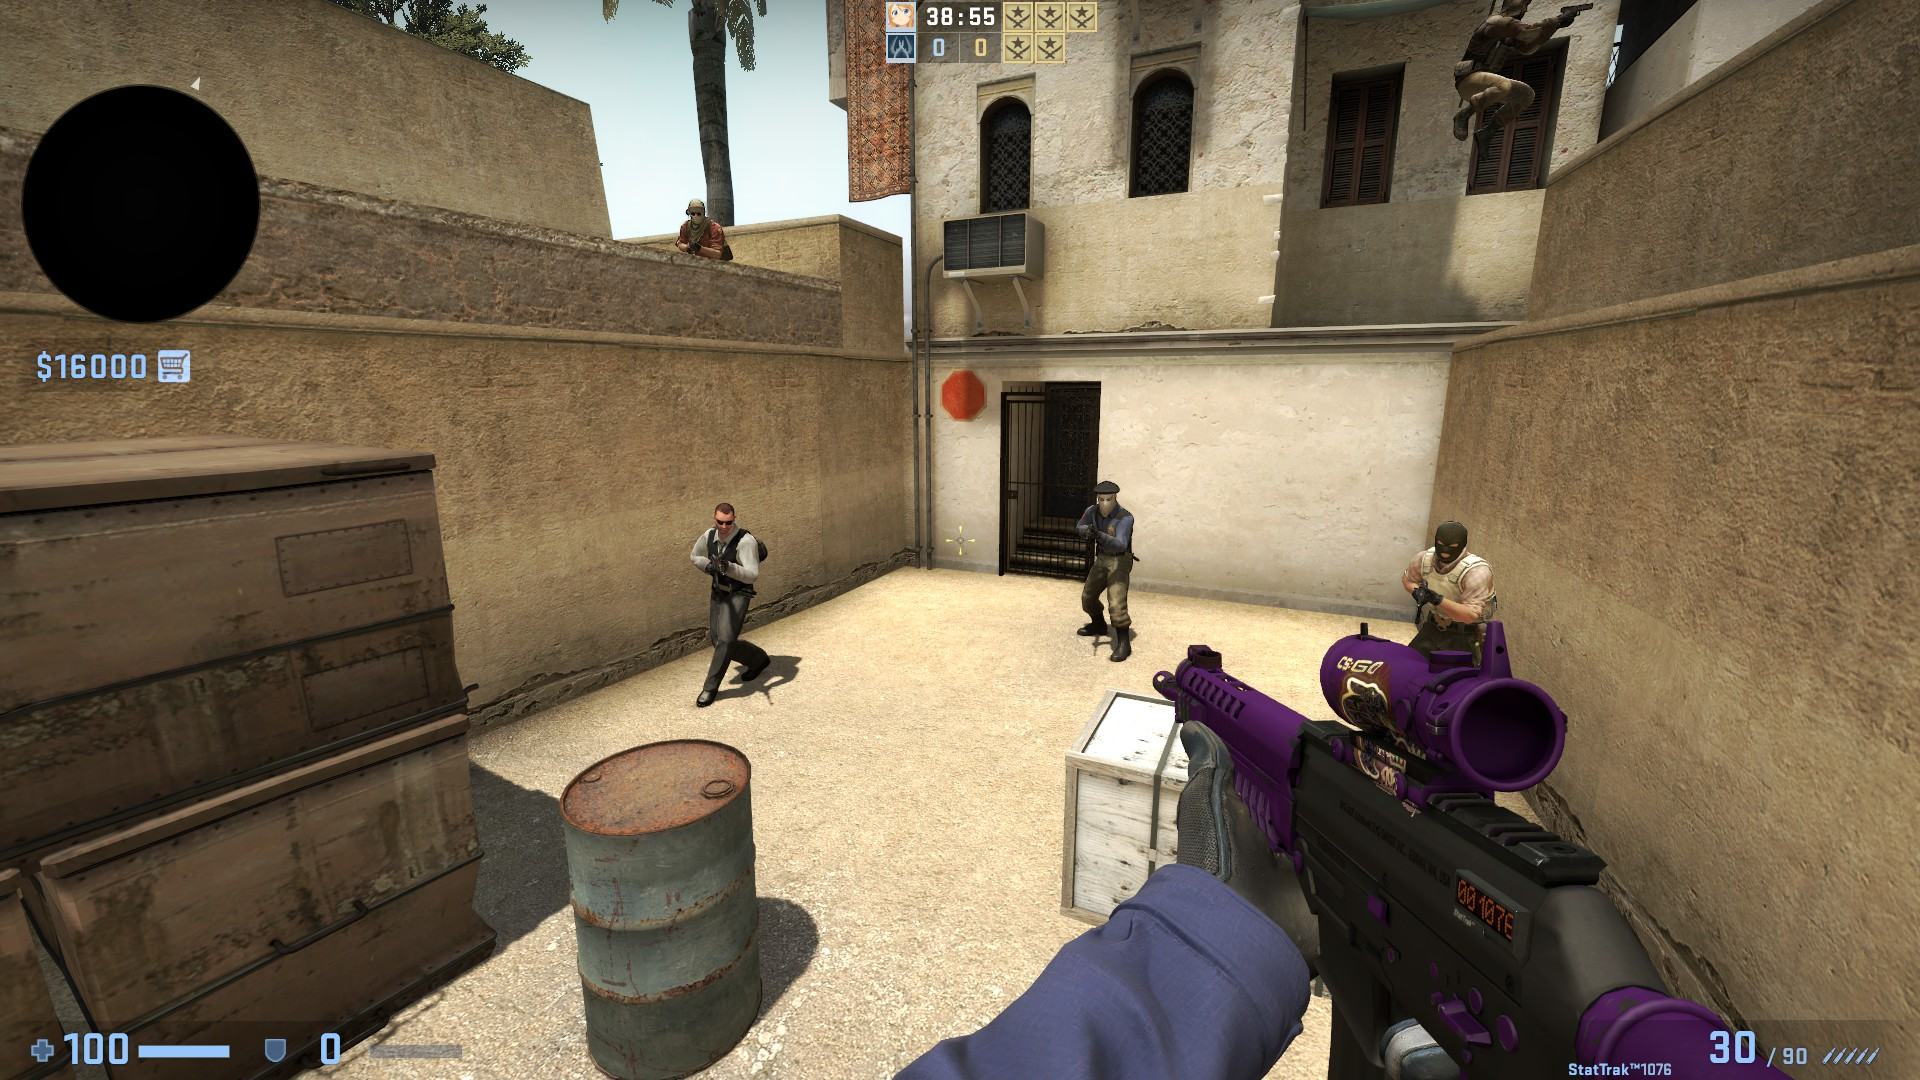head: (1430, 519, 1467, 563), (1092, 480, 1120, 515), (1492, 0, 1529, 21), (713, 503, 734, 535), (682, 197, 706, 224)
